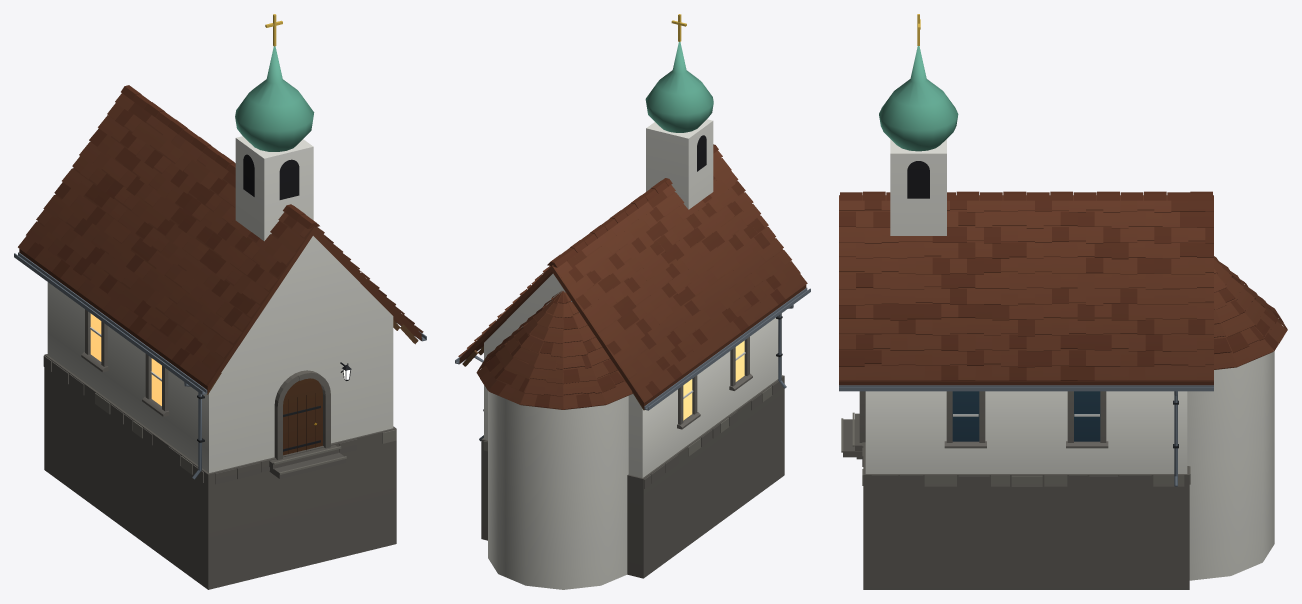
File: Chapel.fbx
The picture shows the model from 3 angles, left to right: view 1: azimuth 30°, elevation 25°; view 2: azimuth 150°, elevation 25°; view 3: azimuth 270°, elevation 25°; orthographic projection. The views are drawn at different scales.
Parts seen in each view (by area): view 1: Chapel_LOD0; view 2: Chapel_LOD0; view 3: Chapel_LOD0.
Boxes of the visible parts, x1,y1,x2,y2 form: Chapel_LOD0: (14, 14, 426, 589); Chapel_LOD0: (455, 14, 810, 589); Chapel_LOD0: (839, 14, 1287, 589).
Size of what is drawn, in the model's own units: 6.82 by 15.44 by 11.85.
1 material, 1 textured.
